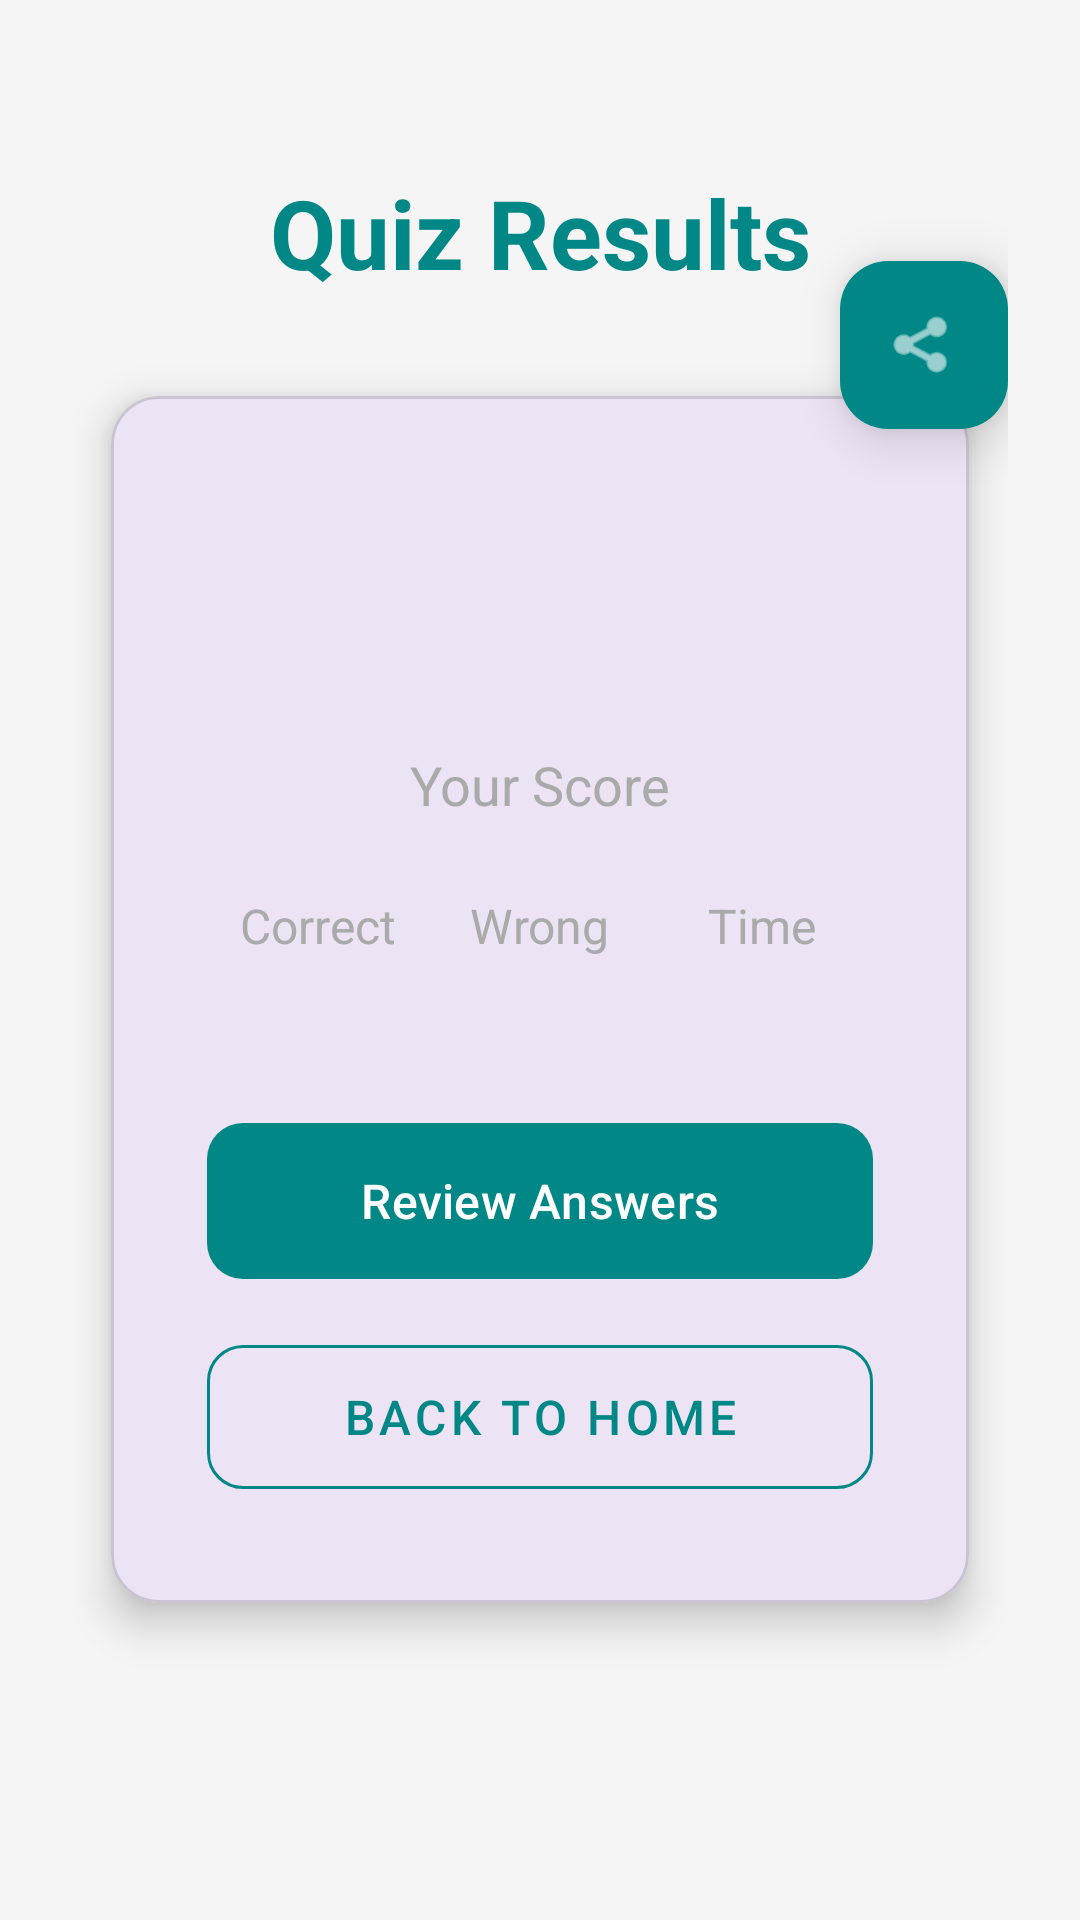

Screen size 1080 x 1920. Icon name, then its center in pixels as [x,y]:
share: [924,345]
